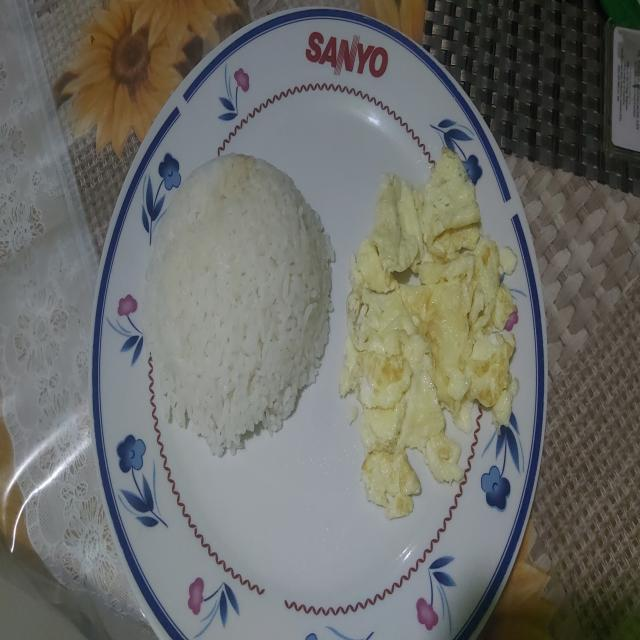Chicken -Chicken Inasal-: (144, 150, 332, 442)
